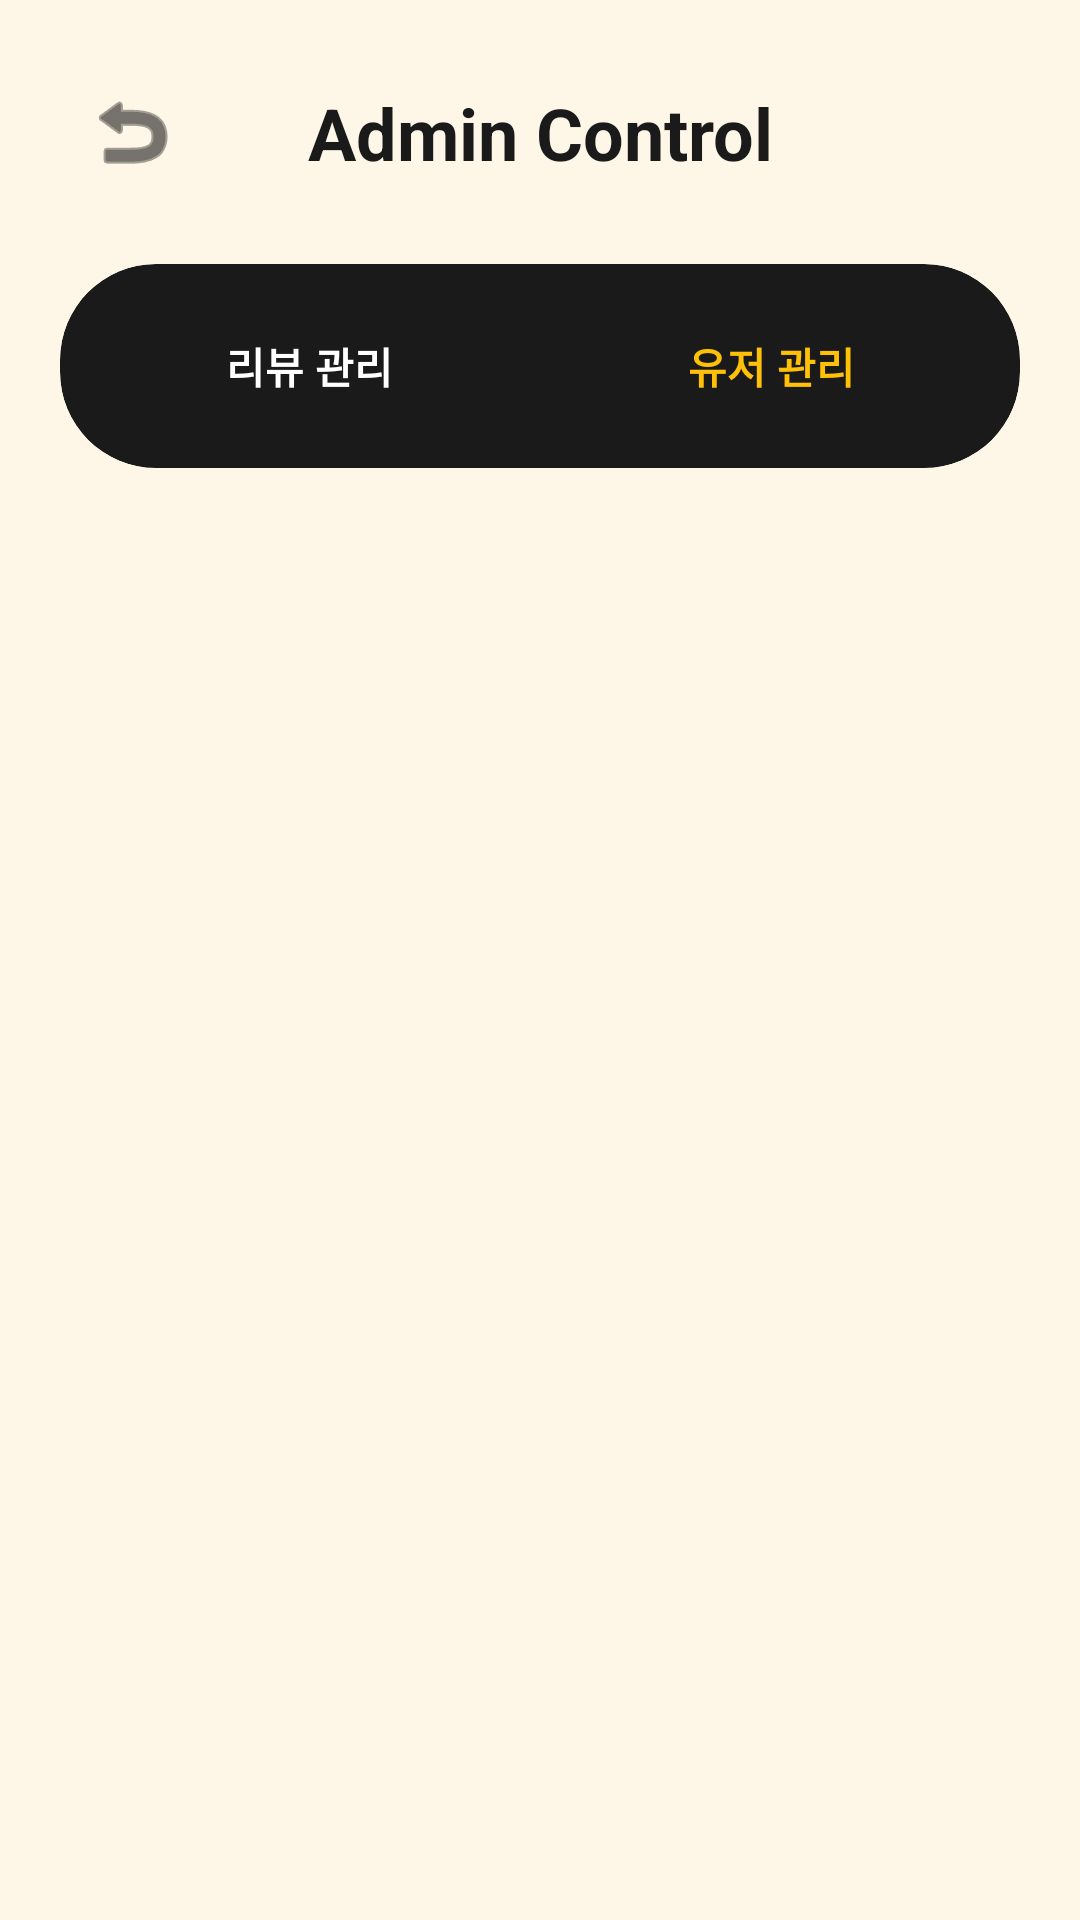

Screen size 1080w x 1920h. Icon name, then its box in pixels as (x1, y1, x2, y2):
뒤로가기: (99, 101, 168, 164)
